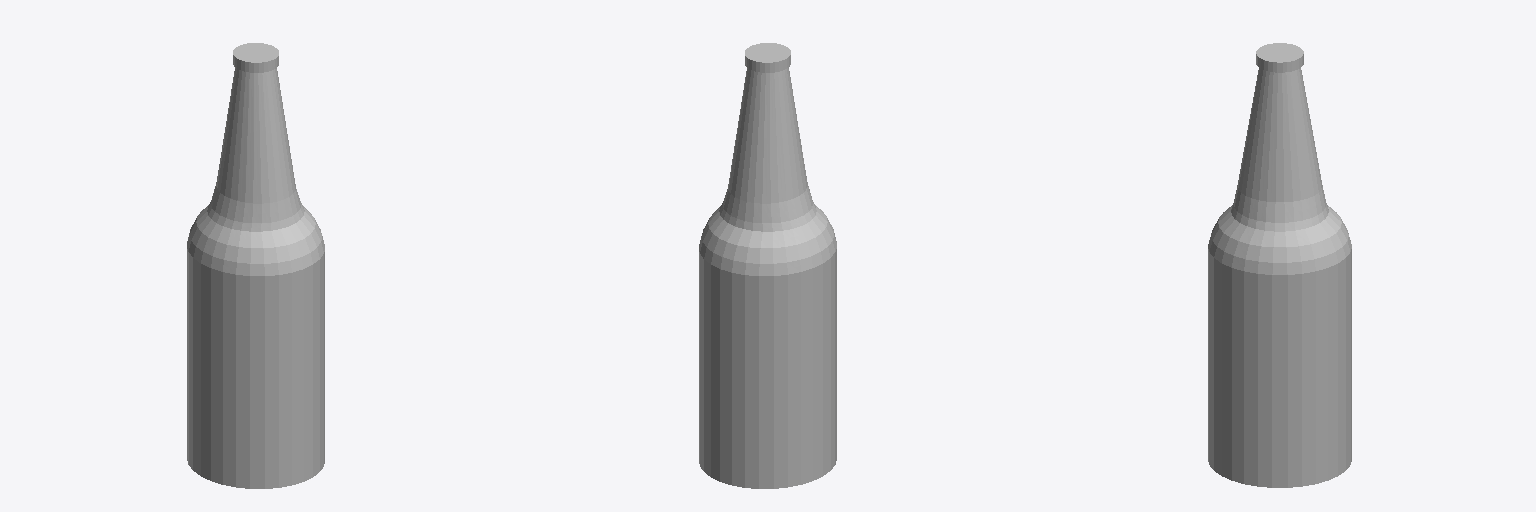
Rendered from BeerBottle.obj.
3 views of the same model, side by side, from view 1: azimuth 30°, elevation 25°; view 2: azimuth 150°, elevation 25°; view 3: azimuth 270°, elevation 25° (orthographic).
Parts seen in each view (by area): view 1: Cylinder.001, Cylinder; view 2: Cylinder.001, Cylinder; view 3: Cylinder.001, Cylinder.
Boxes of the visible parts, <box> form: Cylinder.001: <box>187,67,324,488</box>; Cylinder: <box>233,43,278,72</box>; Cylinder.001: <box>699,67,836,488</box>; Cylinder: <box>745,43,790,72</box>; Cylinder.001: <box>1208,68,1351,487</box>; Cylinder: <box>1256,43,1303,72</box>.
Size of the model in its own units: 0.4841 by 1.6 by 0.5135.